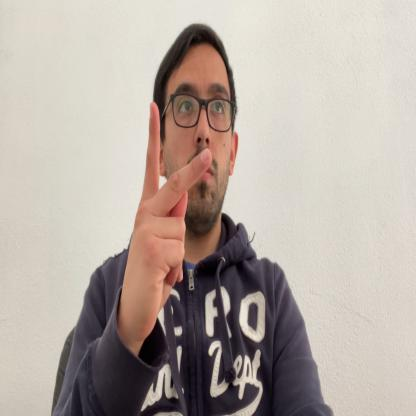P: (123, 101, 212, 352)
